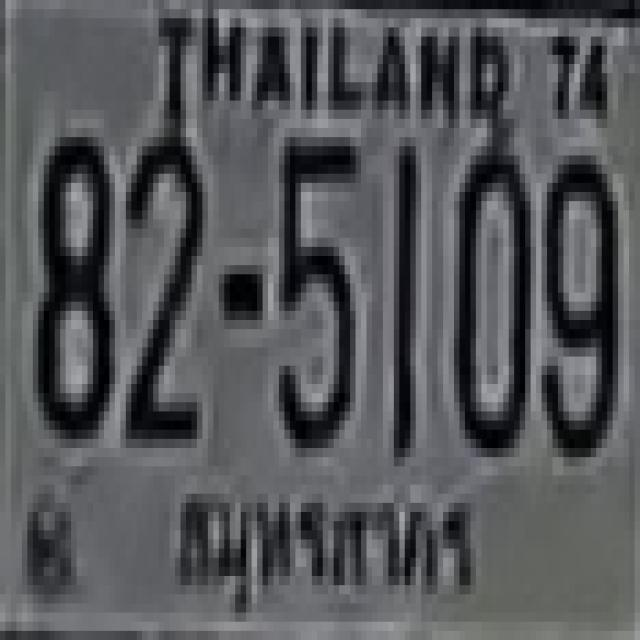0: (449, 142, 525, 443)
1: (388, 142, 416, 452)
2: (123, 128, 200, 439)
5: (276, 132, 353, 444)
8: (33, 128, 109, 430)
9: (536, 146, 613, 448)
SKN: (167, 472, 488, 621)
